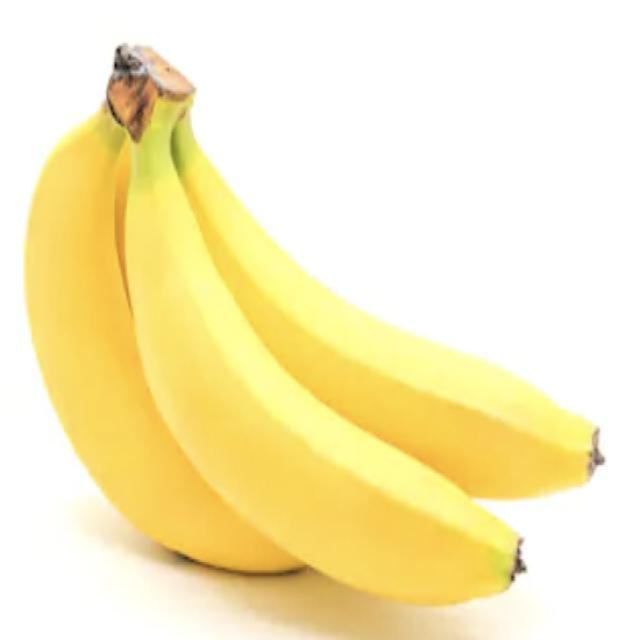Banana: (22, 41, 605, 606)
